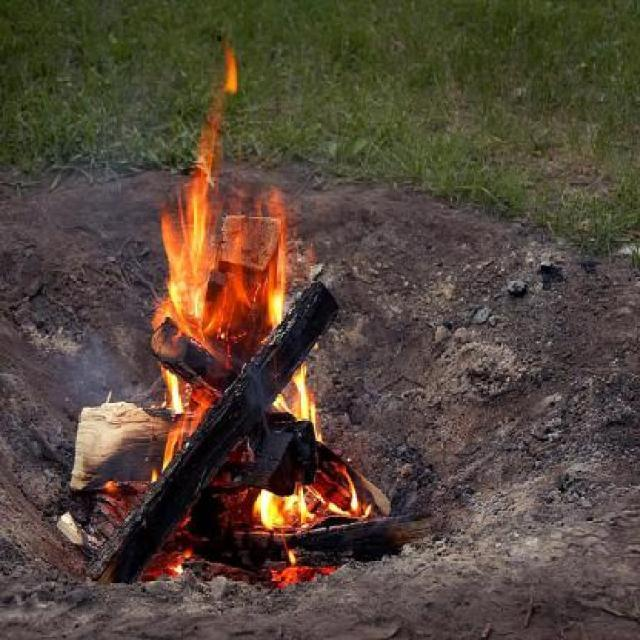Fire: (161, 39, 284, 318), (252, 478, 314, 536), (278, 366, 319, 429), (156, 364, 183, 414)
